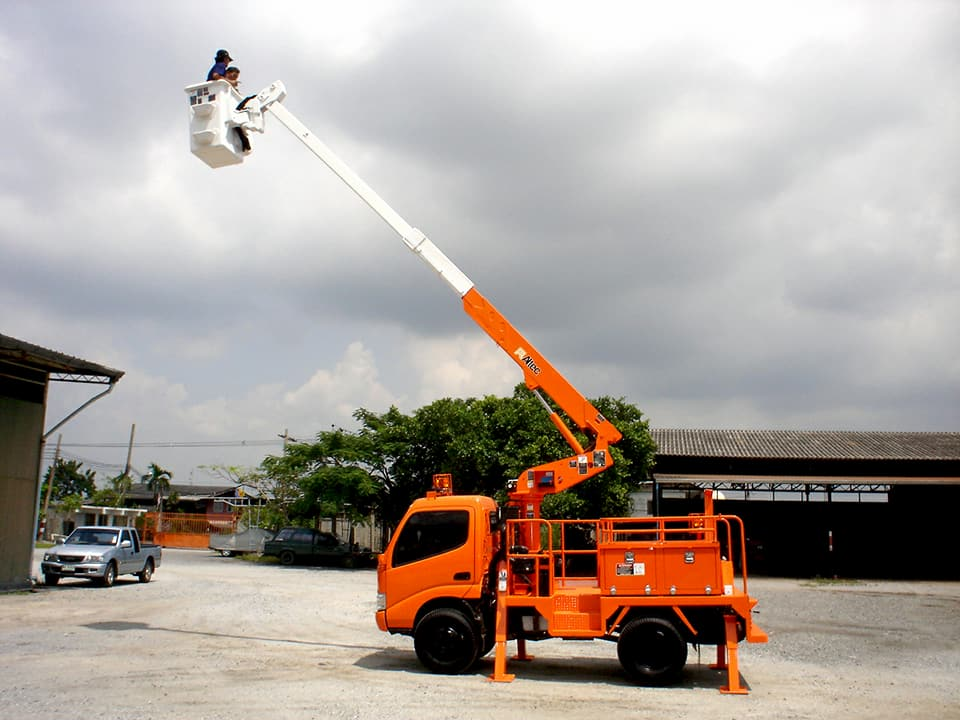truck: (377, 470, 760, 688)
